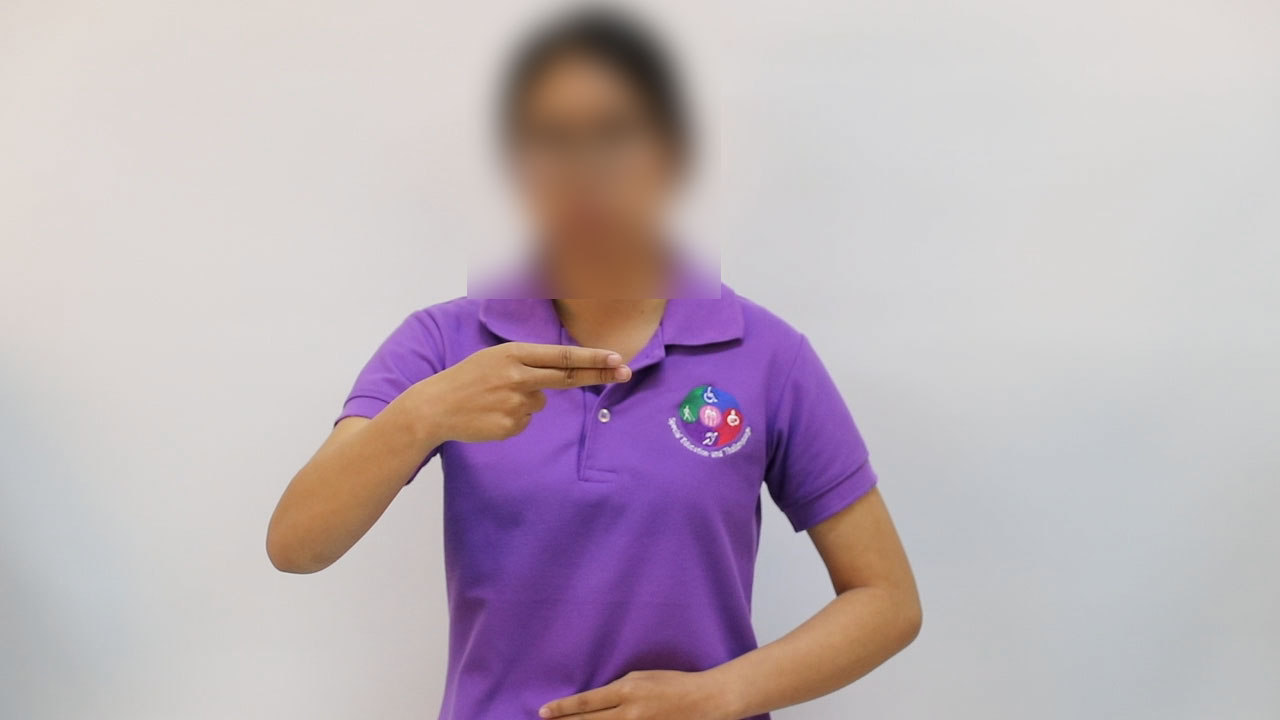hor: (402, 320, 647, 458)
